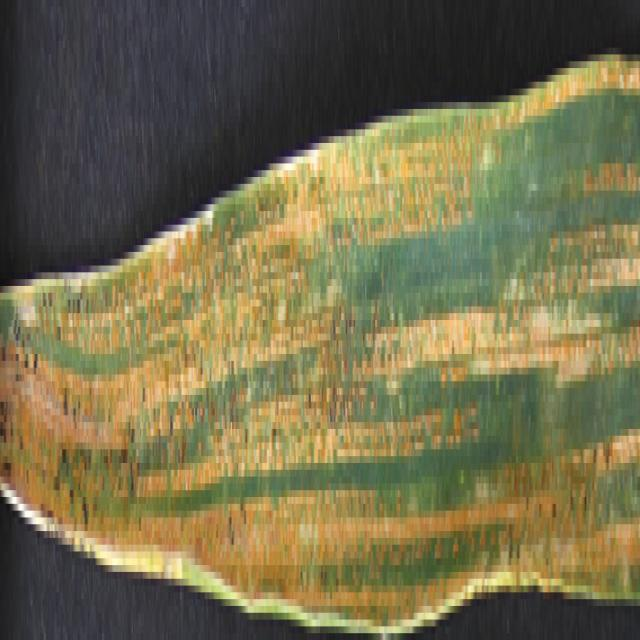leaf rust: (1, 41, 640, 606)
